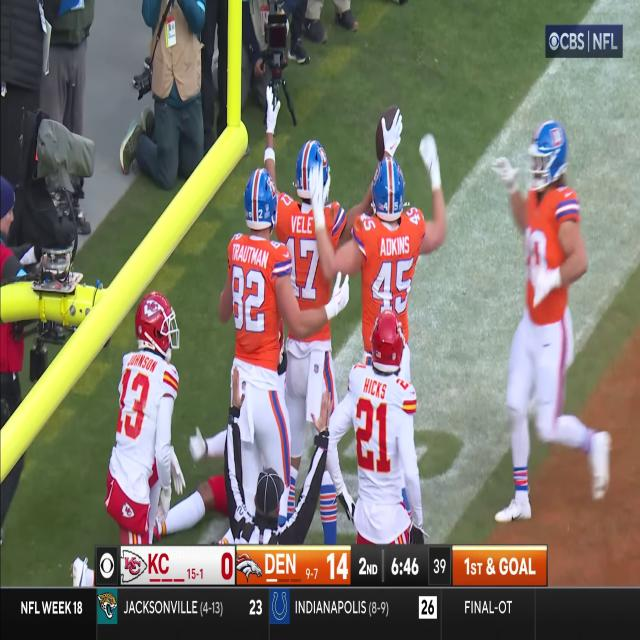Player: (511, 115, 587, 532), (223, 170, 288, 472), (336, 311, 420, 541), (112, 294, 180, 544), (276, 141, 342, 383), (354, 161, 426, 317)
